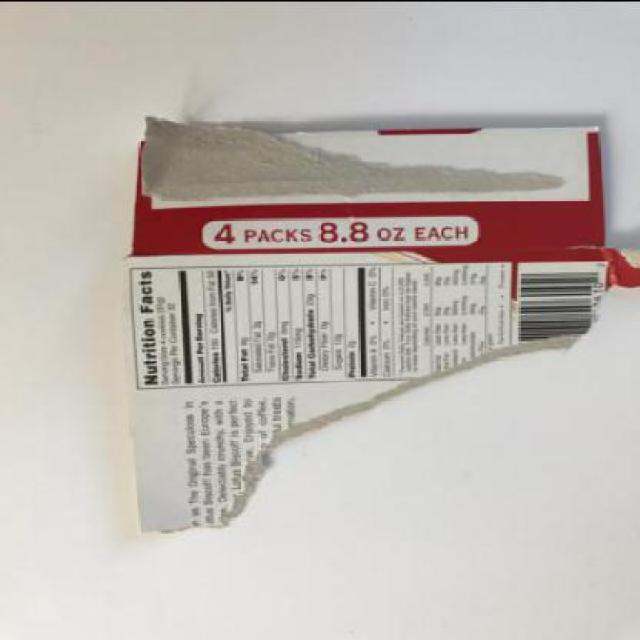CARDBOARD: (120, 117, 638, 535)
PAPER: (121, 117, 638, 532)
